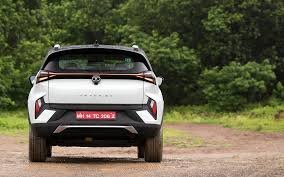Tata Nexon: (25, 41, 164, 164)
